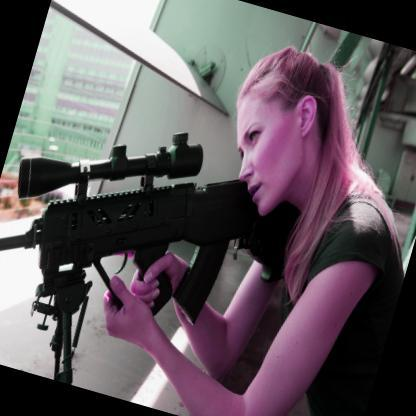rifle: (0, 29, 338, 416)
